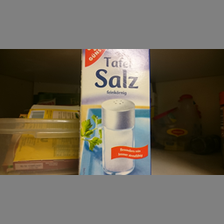spicesw: (80, 49, 152, 175)
